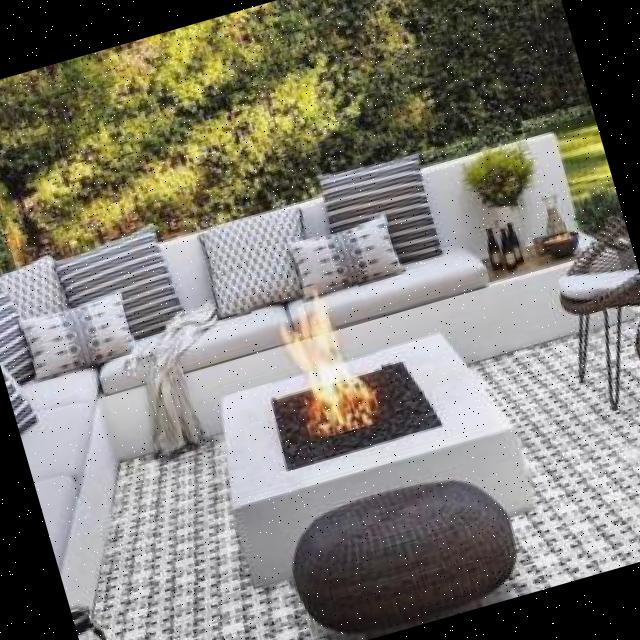fire: (248, 272, 396, 447)
